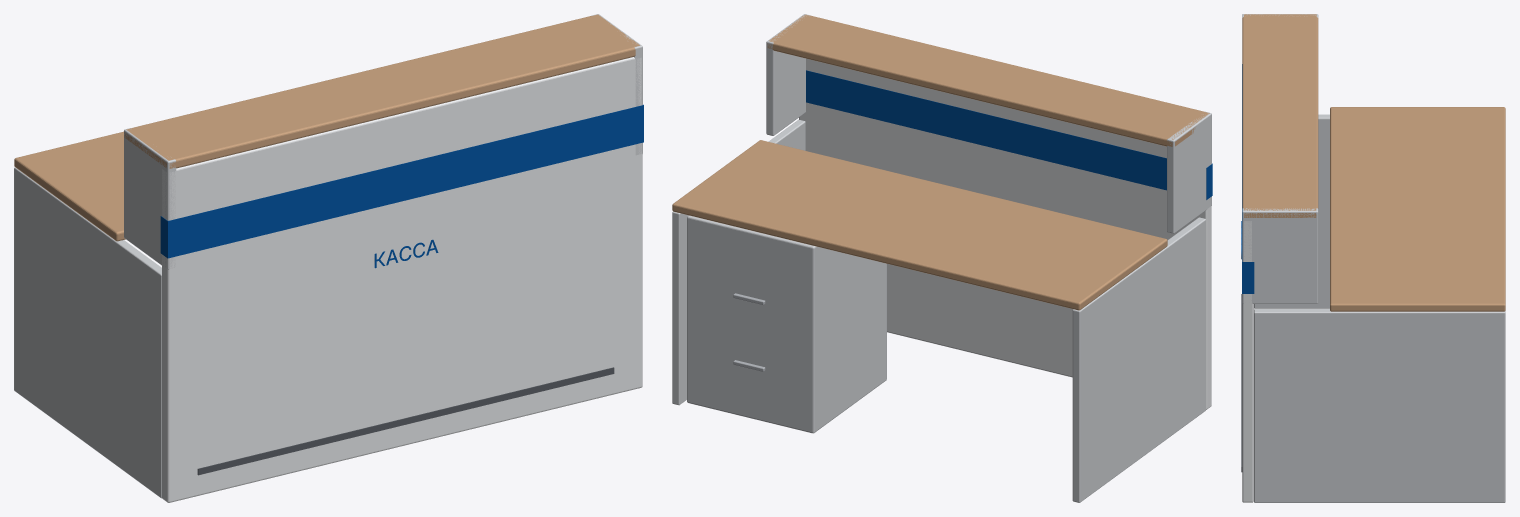
File: cashier-window.glb
The picture shows the model from 3 angles, left to right: view 1: azimuth 30°, elevation 25°; view 2: azimuth 150°, elevation 25°; view 3: azimuth 270°, elevation 25°; orthographic projection. The views are drawn at different scales.
Visible parts, largest first — view 1: body; view 2: body; view 3: body.
Boxes of the visible parts, x1,y1,x2,y2 form: body: (14,14,643,502); body: (672,14,1212,502); body: (1241,14,1505,502).
Size of the model in its own units: 1.6 by 1.1 by 0.903.
